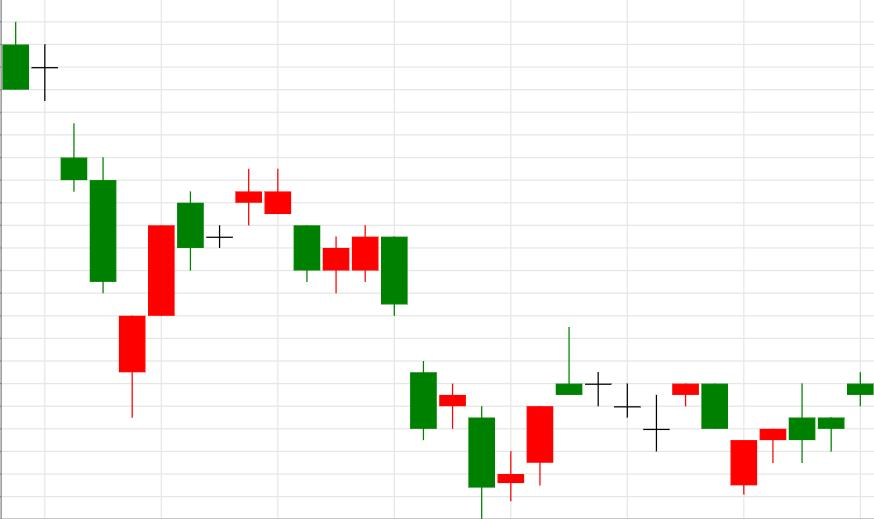morning_star_rise: (264, 170, 554, 518)
